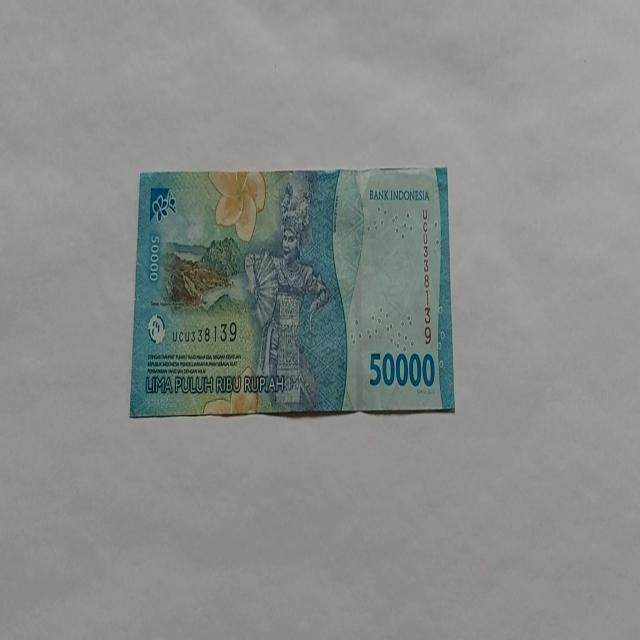lima puluh ribu rupiah: (128, 166, 456, 419)
